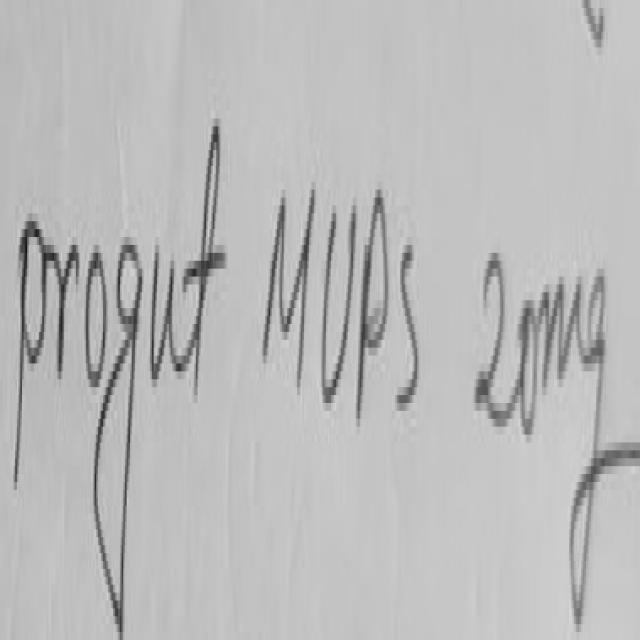M: (263, 190, 315, 383)
P: (361, 190, 388, 415)
S: (399, 245, 419, 407)
U: (320, 205, 355, 399)
g: (93, 237, 142, 628)
o: (84, 245, 106, 383)
p: (12, 210, 47, 492)
r: (46, 245, 79, 375)
t: (184, 118, 222, 413)
u: (148, 238, 185, 387)
